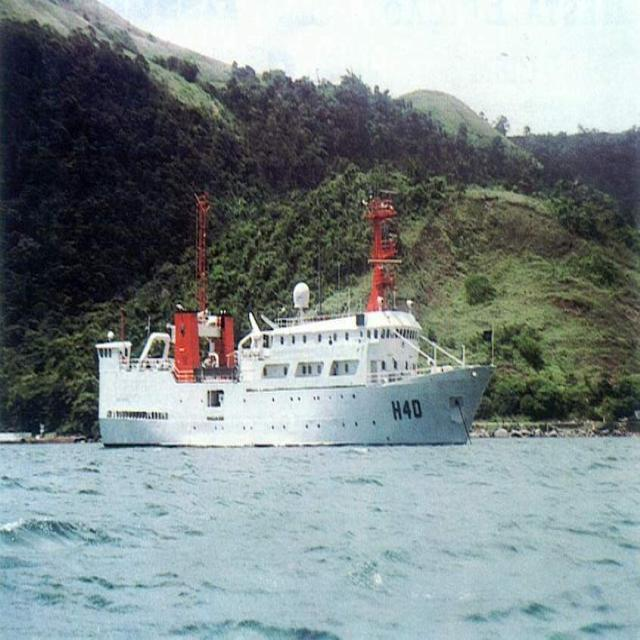Military: (95, 191, 495, 445)
